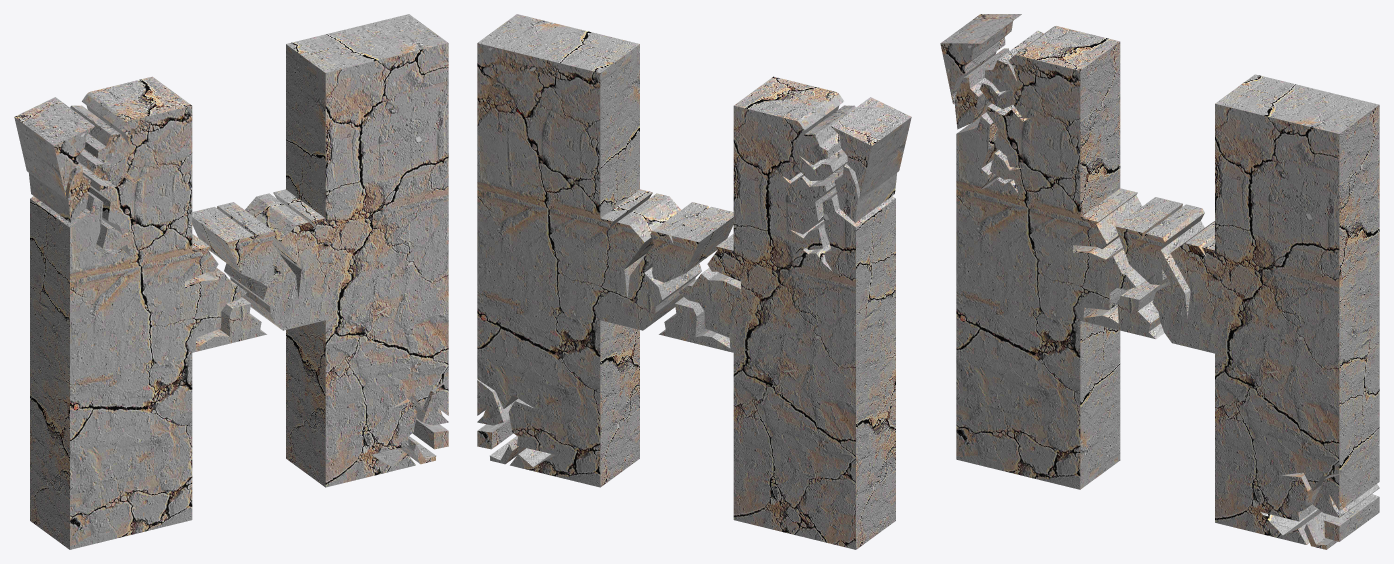
The picture shows the model from 3 angles, left to right: view 1: azimuth 30°, elevation 25°; view 2: azimuth 150°, elevation 25°; view 3: azimuth 330°, elevation 25°; orthographic projection.
Visible parts, largest first — view 1: H; view 2: H; view 3: H.
Part boxes in pixels (box(x1,y1,x2,y2)): H: box(14, 14, 448, 549); H: box(477, 14, 911, 549); H: box(940, 14, 1379, 549).
Size of the model in its own units: 86.09 by 87.04 by 15.
1 material, 1 textured.
